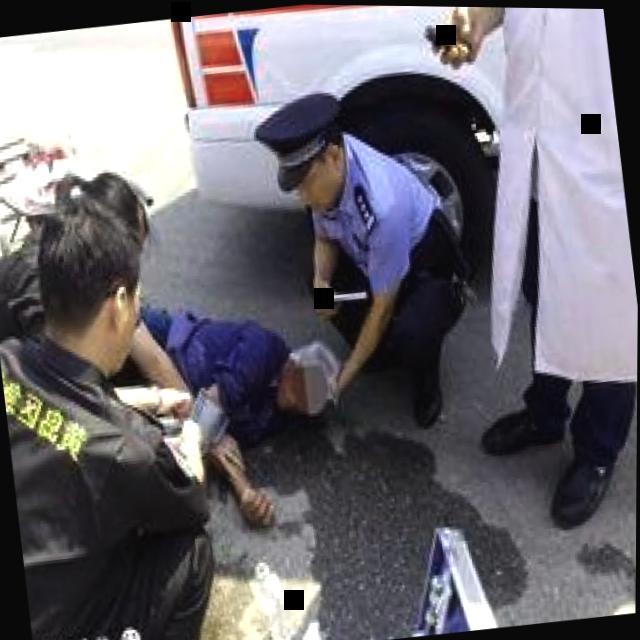Fall-Detected: (105, 236, 361, 543)
